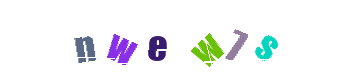7: (168, 0, 248, 80)
E: (117, 0, 197, 80)
N: (81, 0, 161, 80)
S: (226, 0, 306, 80)
W: (108, 0, 188, 80), (135, 0, 215, 80)
